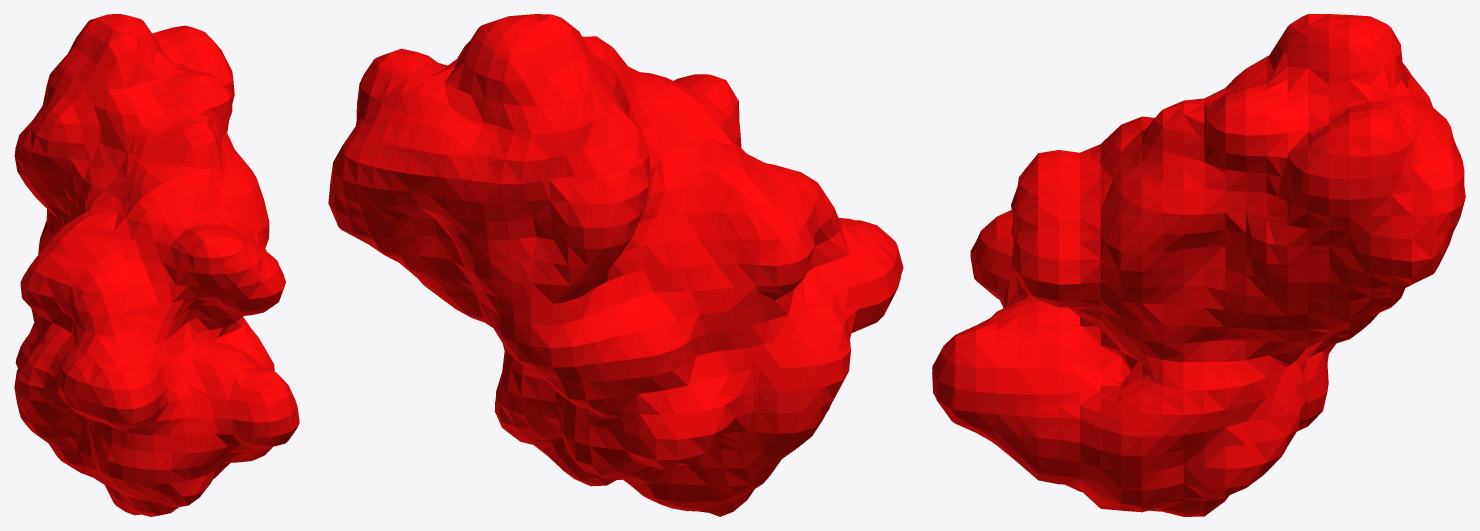
Rendered from ydgA_coarse.dae.
3 renders of one model, left to right at view 1: azimuth 30°, elevation 25°; view 2: azimuth 150°, elevation 25°; view 3: azimuth 270°, elevation 25°, orthographic. The views are drawn at different scales.
Visible parts, largest first — view 1: ydgA; view 2: ydgA; view 3: ydgA.
Boxes of the visible parts, bbox=[...] form: ydgA: bbox=[14, 14, 299, 516]; ydgA: bbox=[328, 14, 903, 516]; ydgA: bbox=[932, 14, 1465, 516].
Size of the model in its own units: 57.11 by 78.88 by 72.95.
